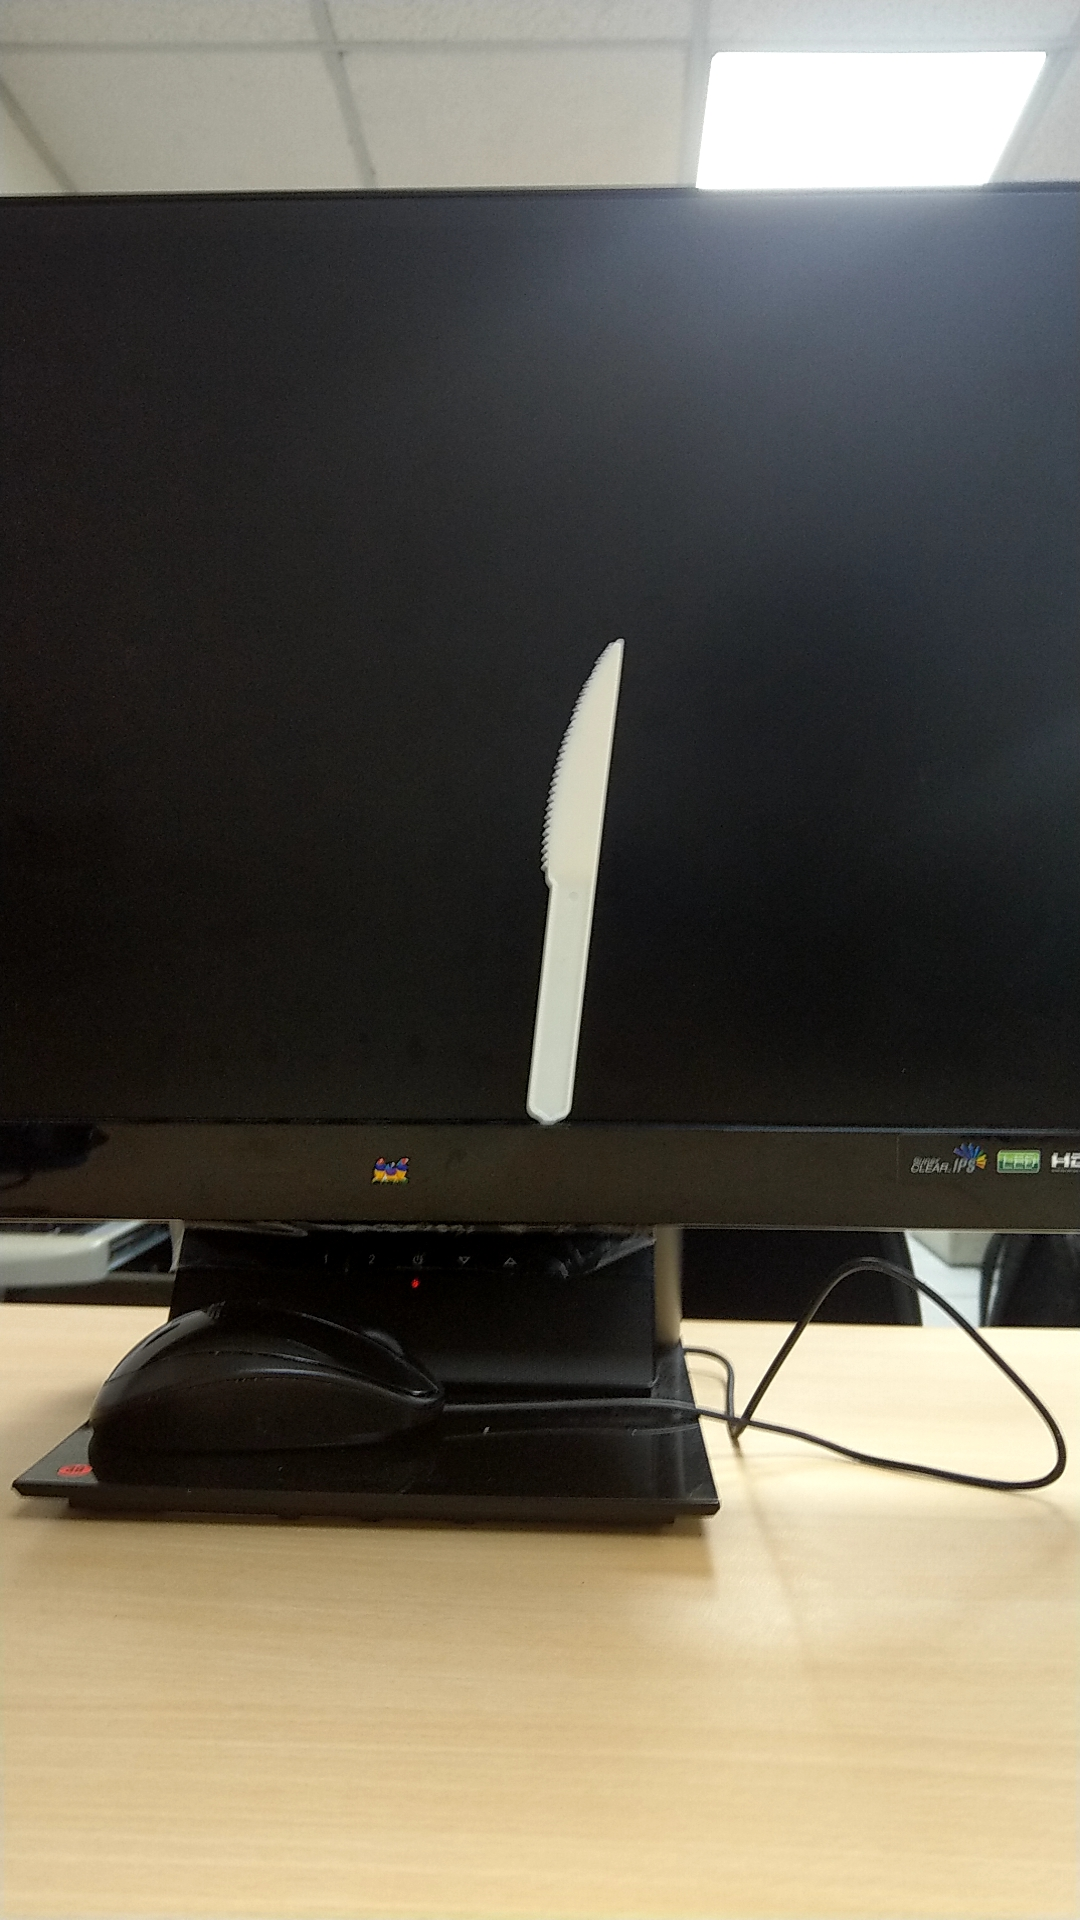knife: (502, 618, 637, 1129)
